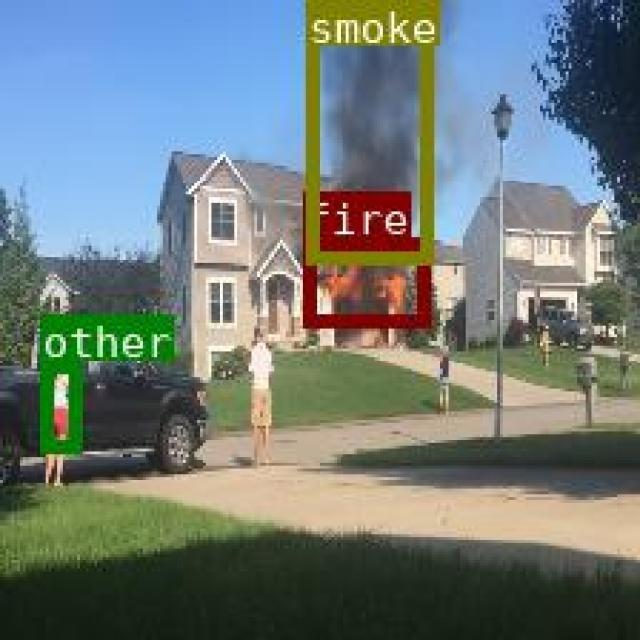fire: (302, 236, 428, 326)
smoke: (304, 0, 430, 260)
